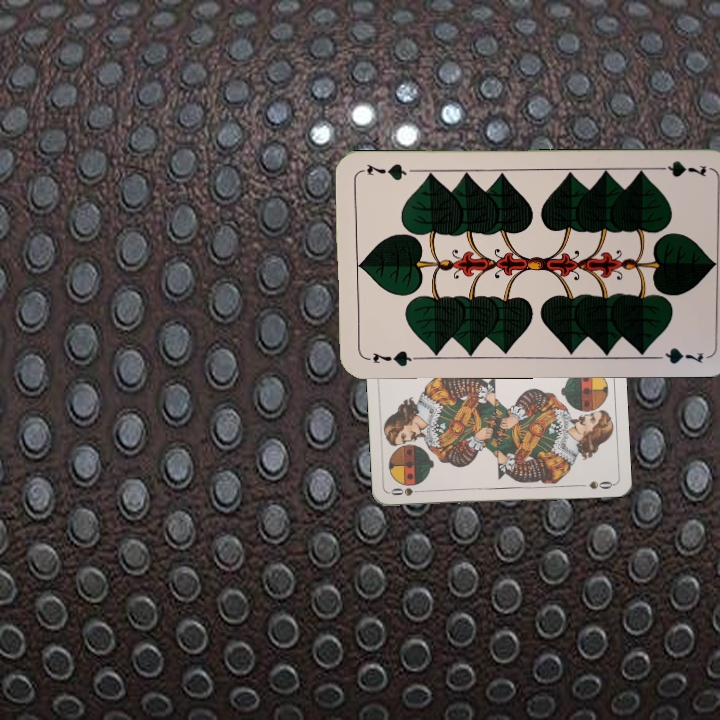G7: (650, 157, 709, 180), (369, 346, 420, 369)
SO: (386, 484, 427, 498)
